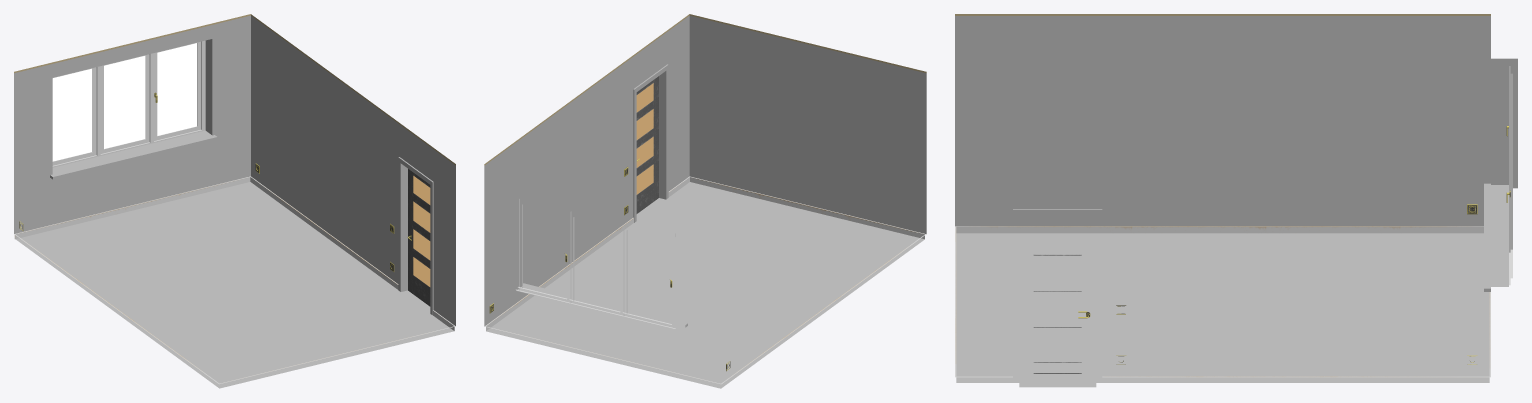
3 views of the same model, side by side, from view 1: azimuth 30°, elevation 25°; view 2: azimuth 150°, elevation 25°; view 3: azimuth 270°, elevation 25° (orthographic). The views are drawn at different scales.
Parts seen in each view (by area): view 1: 04_Wall, 09_Floor, 10_WindowGlass, 08_Window, 03_Wood, 07_White, 02_Door, 11_DoorGlass, 06_Decor, 05_Top; view 2: 04_Wall, 09_Floor, 03_Wood, 07_White, 02_Door, 11_DoorGlass, 08_Window, 05_Top, 06_Decor; view 3: 04_Wall, 09_Floor, 07_White, 05_Top, 03_Wood, 06_Decor, 08_Window.
Part boxes in pixels (x1=…): 04_Wall: x1=14, y1=15, x2=455, y2=325; 09_Floor: x1=15, y1=182, x2=453, y2=388; 10_WindowGlass: x1=52, y1=43, x2=196, y2=161; 08_Window: x1=52, y1=40, x2=205, y2=167; 03_Wood: x1=50, y1=130, x2=433, y2=315; 07_White: x1=14, y1=176, x2=455, y2=384; 02_Door: x1=408, y1=169, x2=430, y2=306; 11_DoorGlass: x1=413, y1=176, x2=430, y2=286; 06_Decor: x1=14, y1=14, x2=455, y2=165; 05_Top: x1=205, y1=39, x2=212, y2=134; 04_Wall: x1=484, y1=15, x2=926, y2=326; 09_Floor: x1=486, y1=182, x2=924, y2=388; 03_Wood: x1=516, y1=64, x2=687, y2=329; 07_White: x1=485, y1=176, x2=926, y2=384; 02_Door: x1=636, y1=76, x2=658, y2=213; 11_DoorGlass: x1=636, y1=83, x2=653, y2=194; 08_Window: x1=516, y1=199, x2=675, y2=328; 05_Top: x1=512, y1=189, x2=522, y2=295; 06_Decor: x1=484, y1=14, x2=926, y2=165; 04_Wall: x1=955, y1=16, x2=1490, y2=226; 09_Floor: x1=956, y1=233, x2=1489, y2=387; 07_White: x1=955, y1=226, x2=1490, y2=377; 05_Top: x1=1491, y1=58, x2=1517, y2=188; 03_Wood: x1=1013, y1=183, x2=1508, y2=291; 06_Decor: x1=955, y1=14, x2=1490, y2=15; 08_Window: x1=1509, y1=66, x2=1512, y2=285.
Size of the model in its own units: 4.32 by 2.78 by 6.48.
